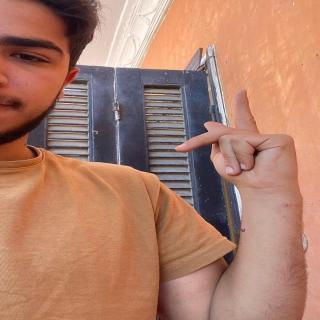DHAA: (167, 84, 320, 195)
